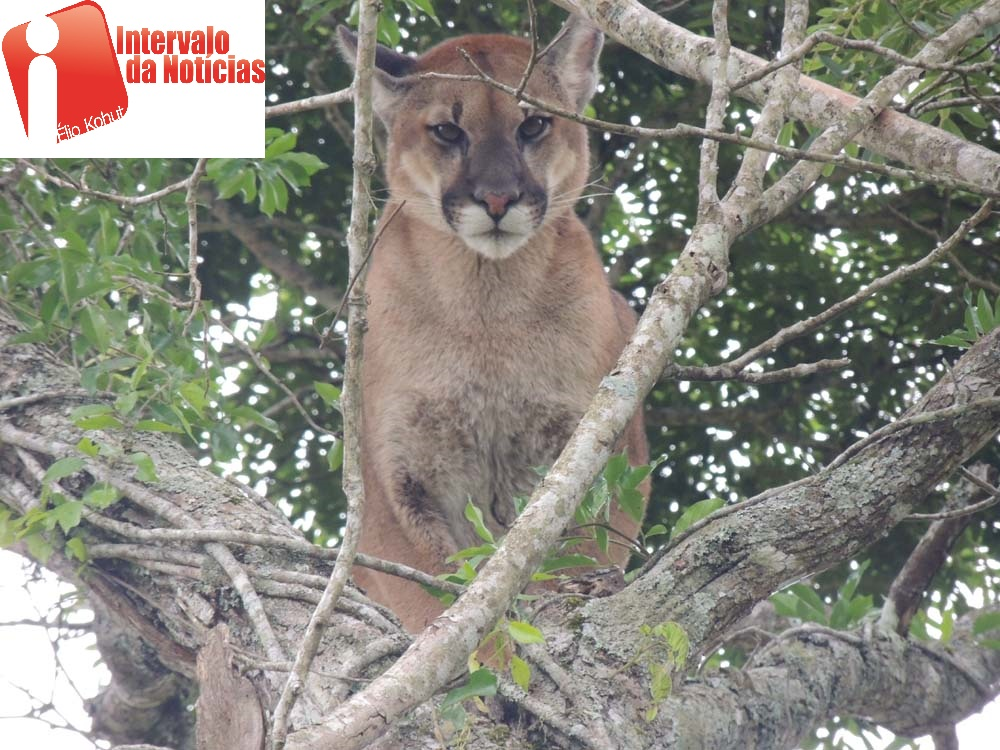OncaParda: (316, 17, 663, 625)
